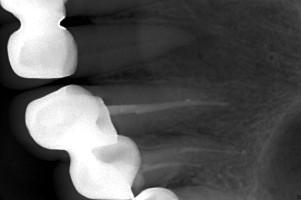Furcation Involvement: (168, 23, 244, 82)
